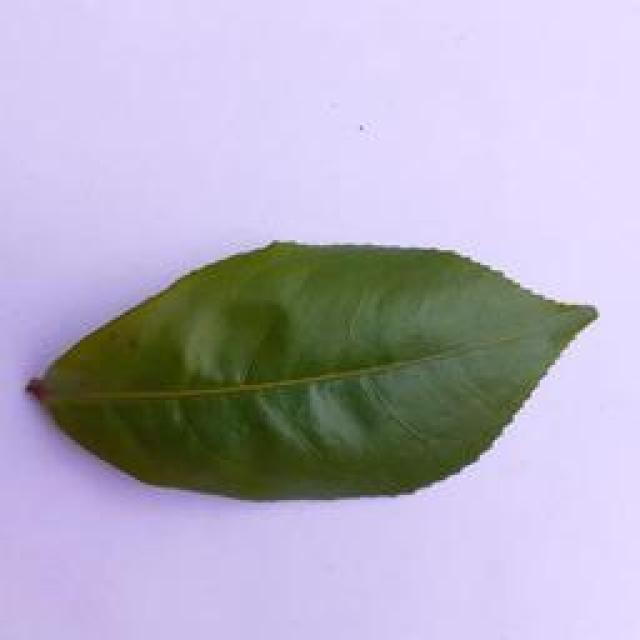Healthy: (29, 232, 597, 506)
